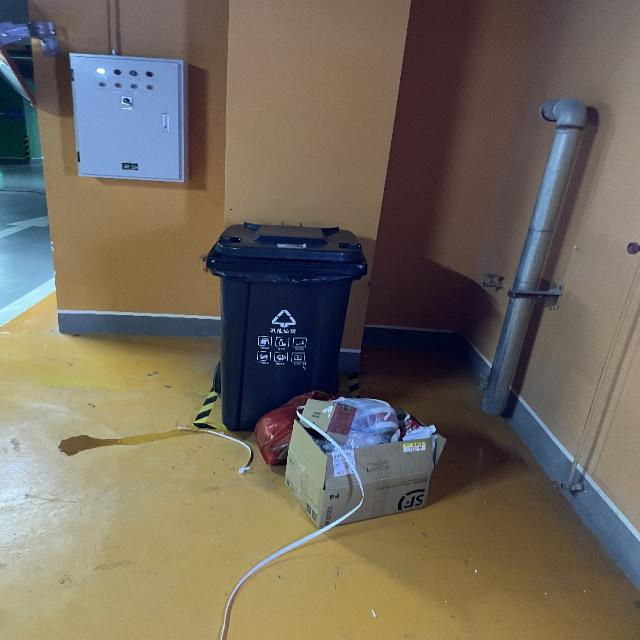garbage: (175, 389, 446, 639)
garbage_bin: (205, 221, 367, 430)
